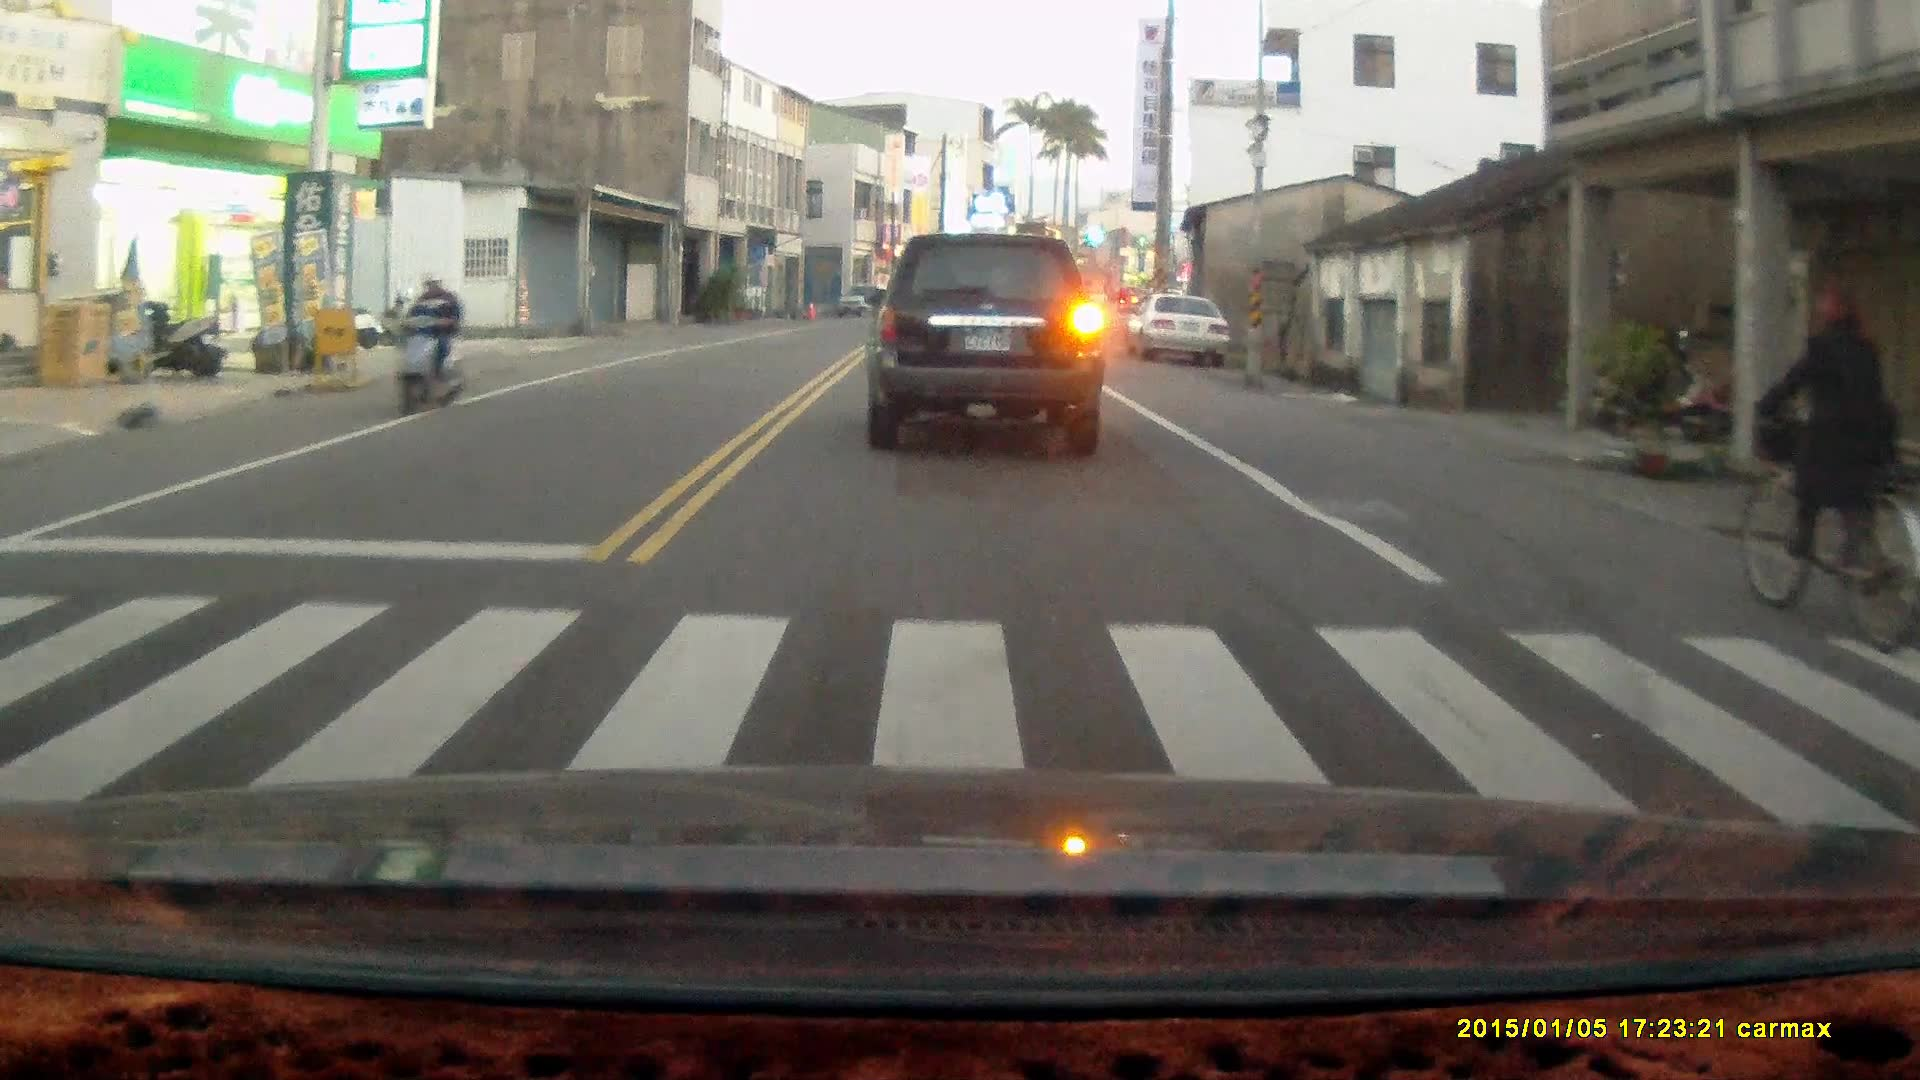rider: (1741, 293, 1920, 658), (382, 265, 466, 415)
vehicle: (863, 232, 1106, 458), (1127, 295, 1235, 365)
